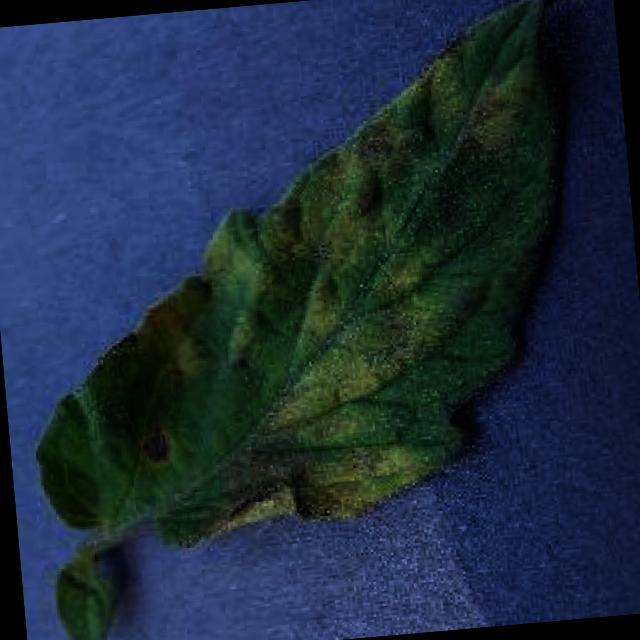Tomato mold leaf: (0, 0, 594, 560)
